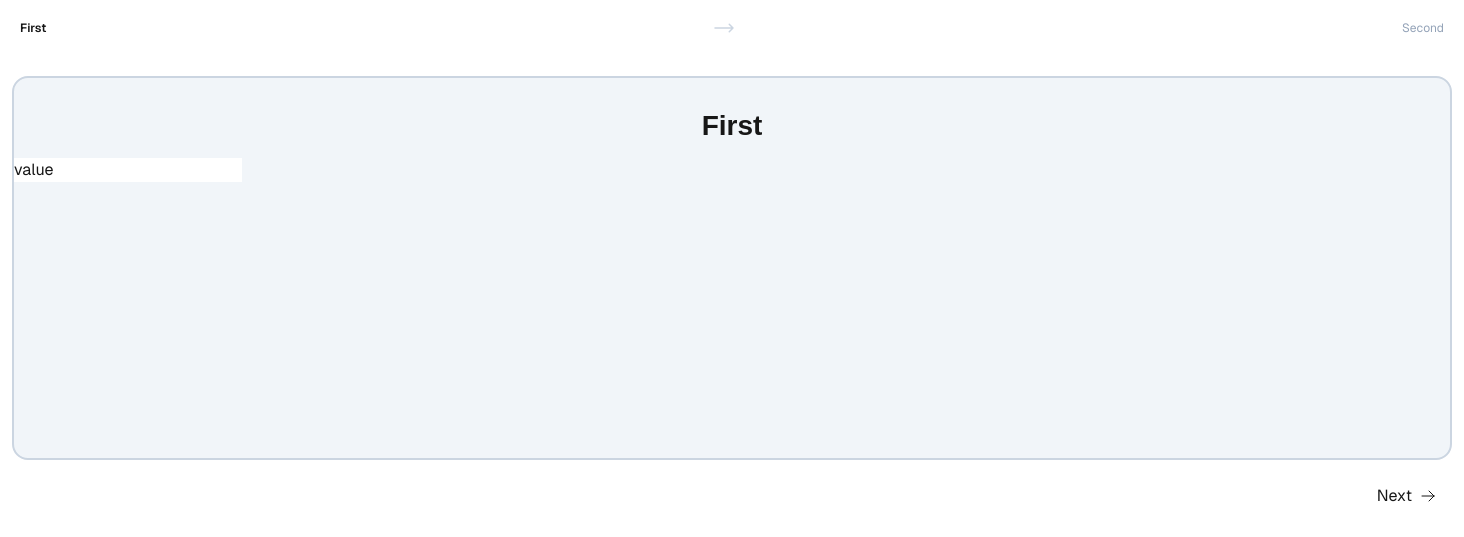
Test: Stepper › validates the active step, moves forward, and allows going back
Click the button "Next": (1406, 496) [1361, 476, 1452, 516]
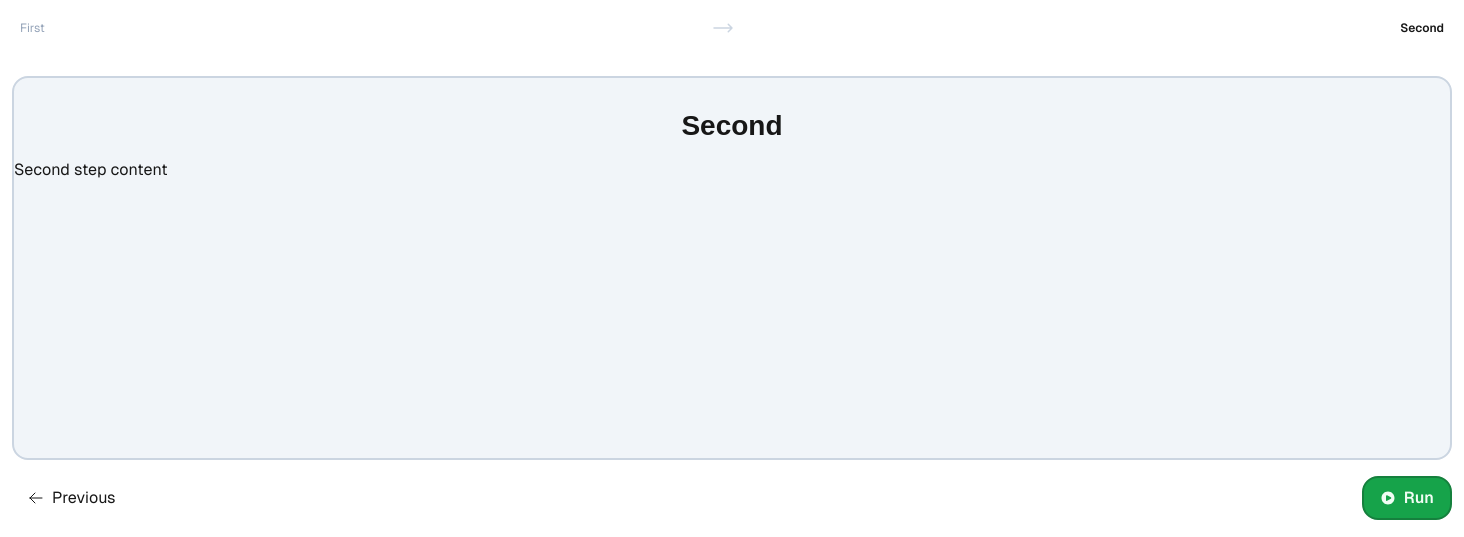
Result: the text "Second step content" is shown at [14, 160, 168, 179]
Click the button "Previous": (72, 498) [12, 476, 132, 520]
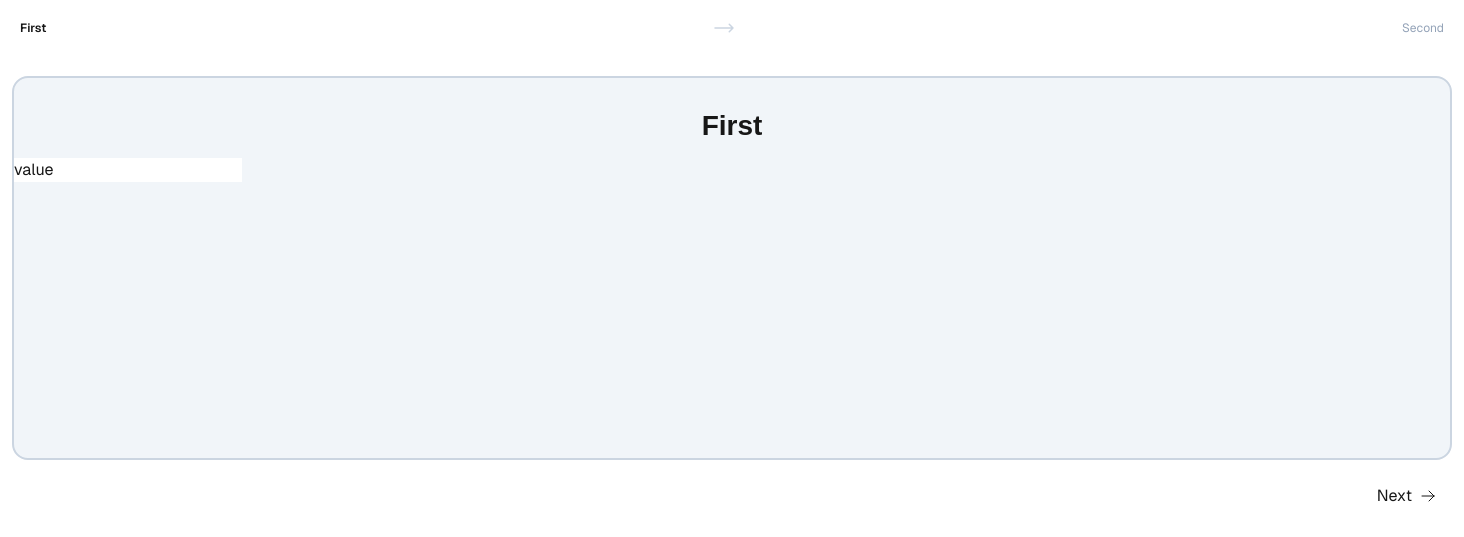
Result: the field showing "value" is shown at [14, 158, 242, 182]
